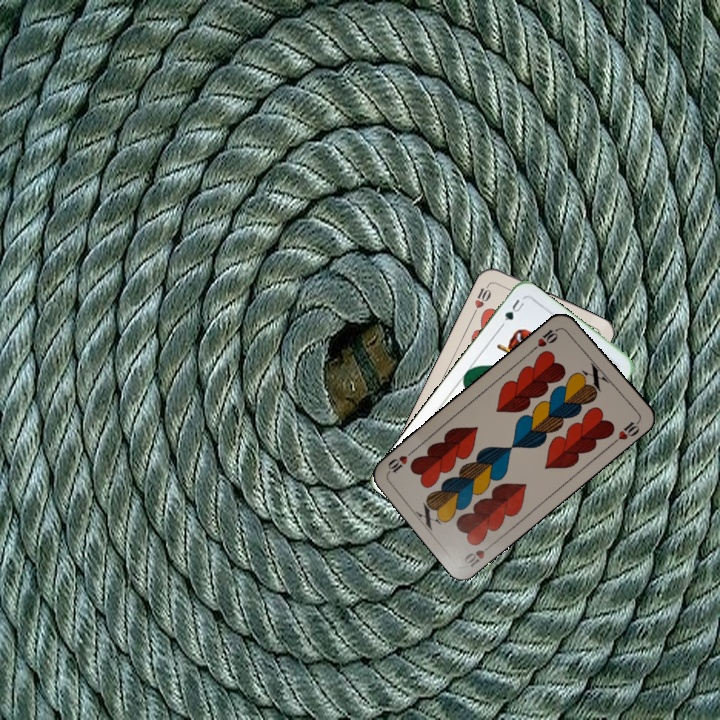GU: (497, 295, 528, 329)
H10: (460, 538, 497, 570), (529, 323, 563, 354), (469, 279, 494, 317)
